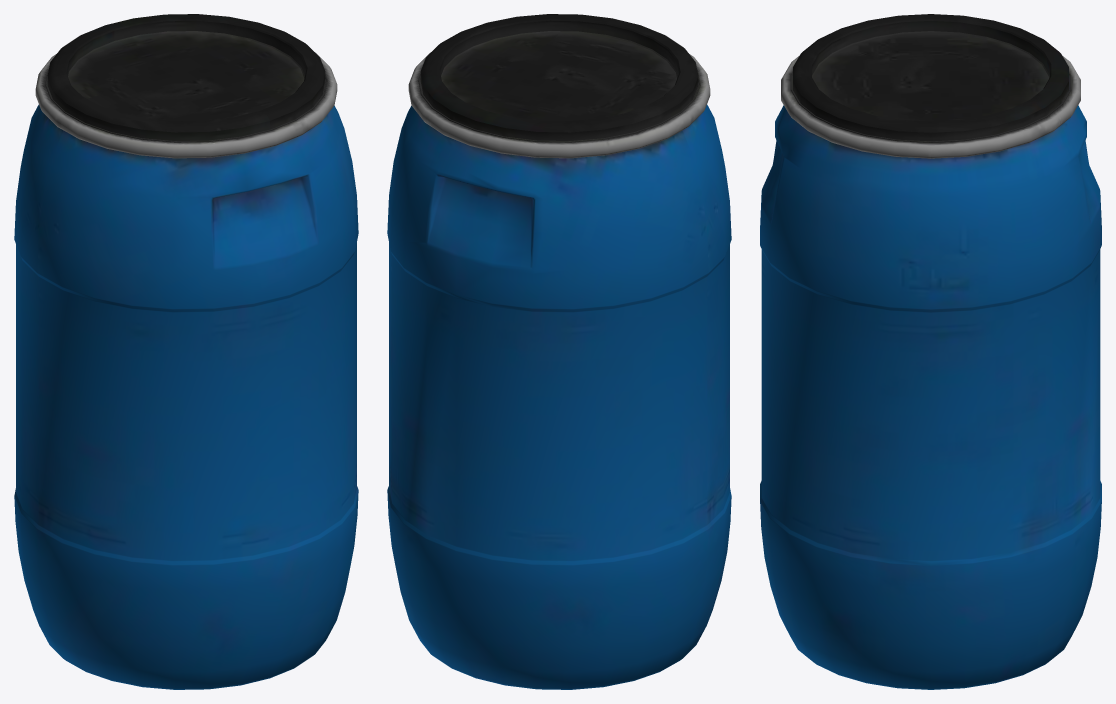
File: barril_2.glb
3 renders of one model, left to right at view 1: azimuth 30°, elevation 25°; view 2: azimuth 150°, elevation 25°; view 3: azimuth 270°, elevation 25°, orthographic.
Visible parts, largest first — view 1: Barrel_02_1k(Clone); view 2: Barrel_02_1k(Clone); view 3: Barrel_02_1k(Clone).
Part boxes in pixels (x1,y1,x2,y2): Barrel_02_1k(Clone): (14,14,358,689); Barrel_02_1k(Clone): (387,14,731,689); Barrel_02_1k(Clone): (760,14,1101,689).
Size of the model in its own units: 0.4882 by 0.88 by 0.4846.
Materials: 1 (1 with a texture image).
